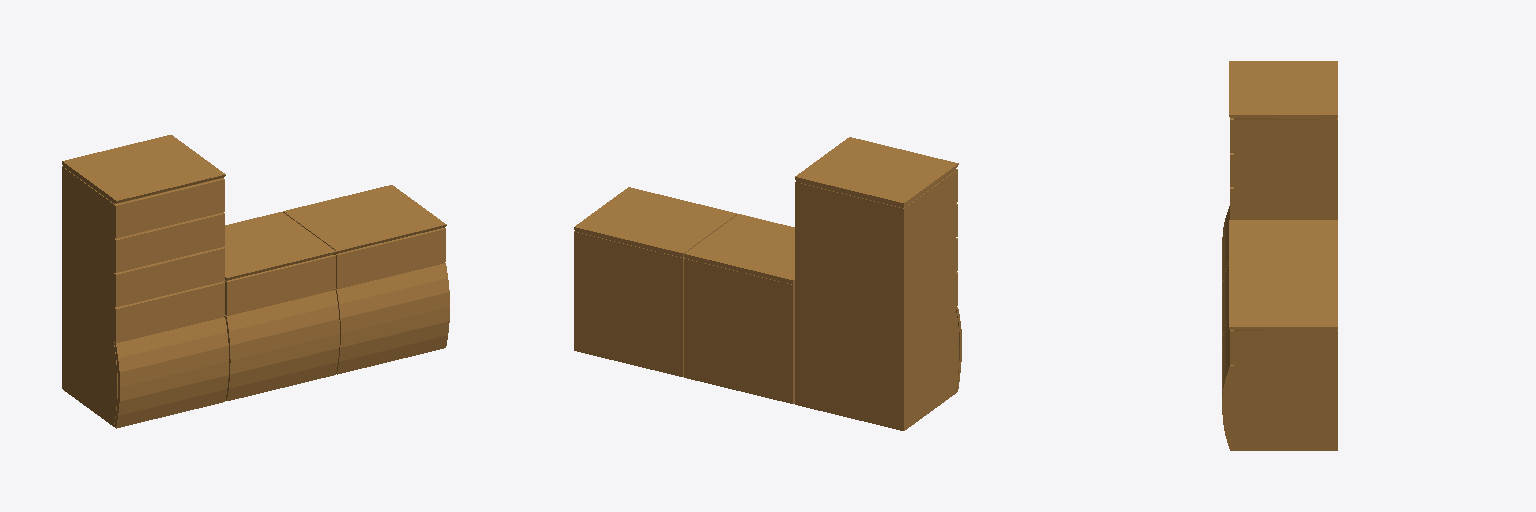
File: box_room.obj
The picture shows the model from 3 angles: view 1: azimuth 30°, elevation 25°; view 2: azimuth 150°, elevation 25°; view 3: azimuth 270°, elevation 25°; orthographic projection.
Parts seen in each view (by area): view 1: highbox_Cube.001, box2_Cube.005, box1_Cube.004; view 2: highbox_Cube.001, box2_Cube.005, box1_Cube.004; view 3: box2_Cube.005, highbox_Cube.001, box1_Cube.004.
Boxes of the visible parts, x1=… form: highbox_Cube.001: x1=62, y1=135, x2=228, y2=428; box2_Cube.005: x1=283, y1=185, x2=449, y2=374; box1_Cube.004: x1=224, y1=212, x2=339, y2=400; highbox_Cube.001: x1=795, y1=137, x2=961, y2=430; box2_Cube.005: x1=574, y1=187, x2=737, y2=376; box1_Cube.004: x1=684, y1=214, x2=794, y2=403; box2_Cube.005: x1=1222, y1=273, x2=1337, y2=450; highbox_Cube.001: x1=1222, y1=61, x2=1337, y2=290; box1_Cube.004: x1=1222, y1=220, x2=1337, y2=344.
Bounding box in the file's own units: 1.58 × 1.04 × 0.4788.